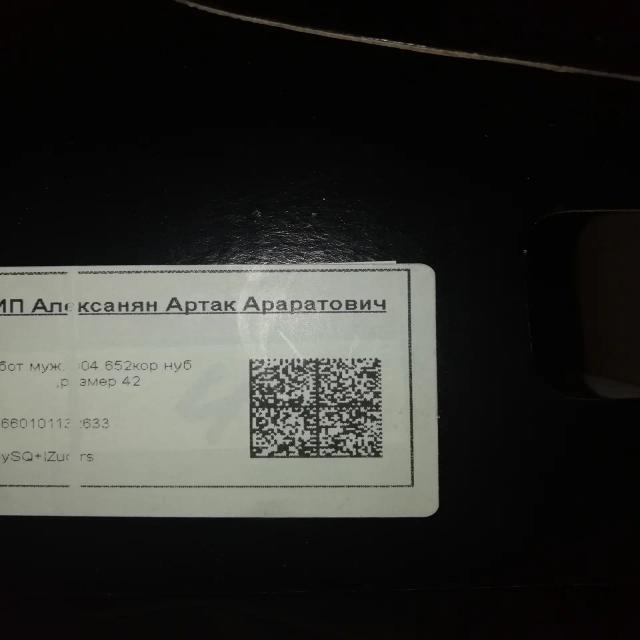datamatrix: (248, 357, 388, 462)
